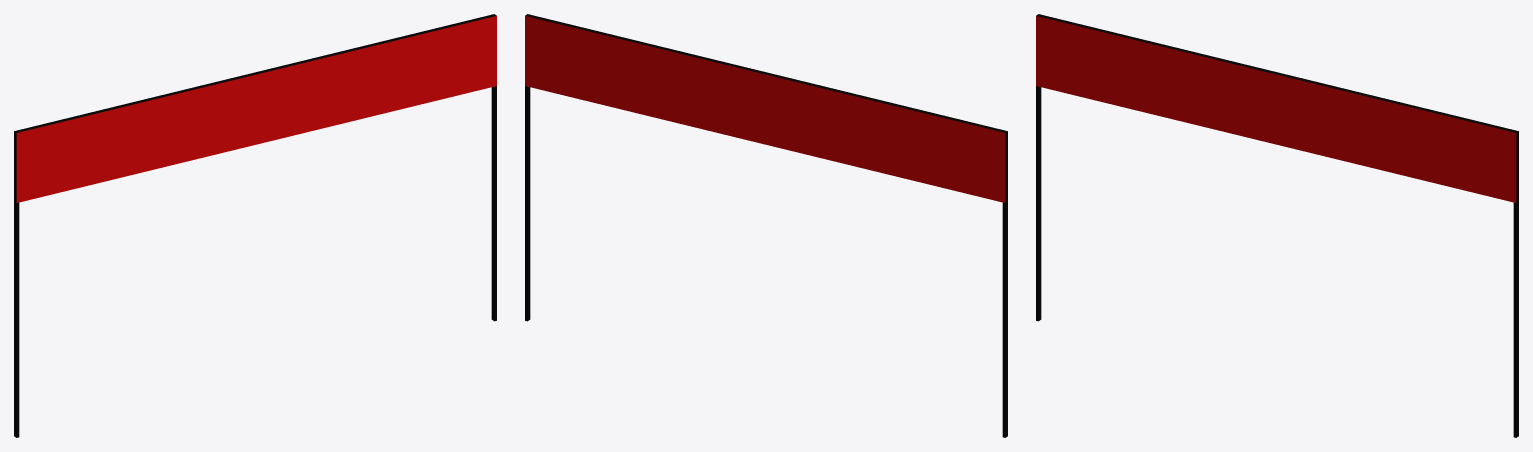
Rendered from Billboard_5.fbx.
The picture shows the model from 3 angles, left to right: view 1: azimuth 30°, elevation 25°; view 2: azimuth 150°, elevation 25°; view 3: azimuth 330°, elevation 25°; orthographic projection.
Visible parts, largest first — view 1: Billboard_6; view 2: Billboard_6; view 3: Billboard_6.
Boxes of the visible parts, x1=… form: Billboard_6: x1=14, y1=14, x2=496, y2=437; Billboard_6: x1=525, y1=14, x2=1007, y2=437; Billboard_6: x1=1036, y1=14, x2=1518, y2=437.
Size of the model in its own units: 154 by 93.53 by 1.4.
